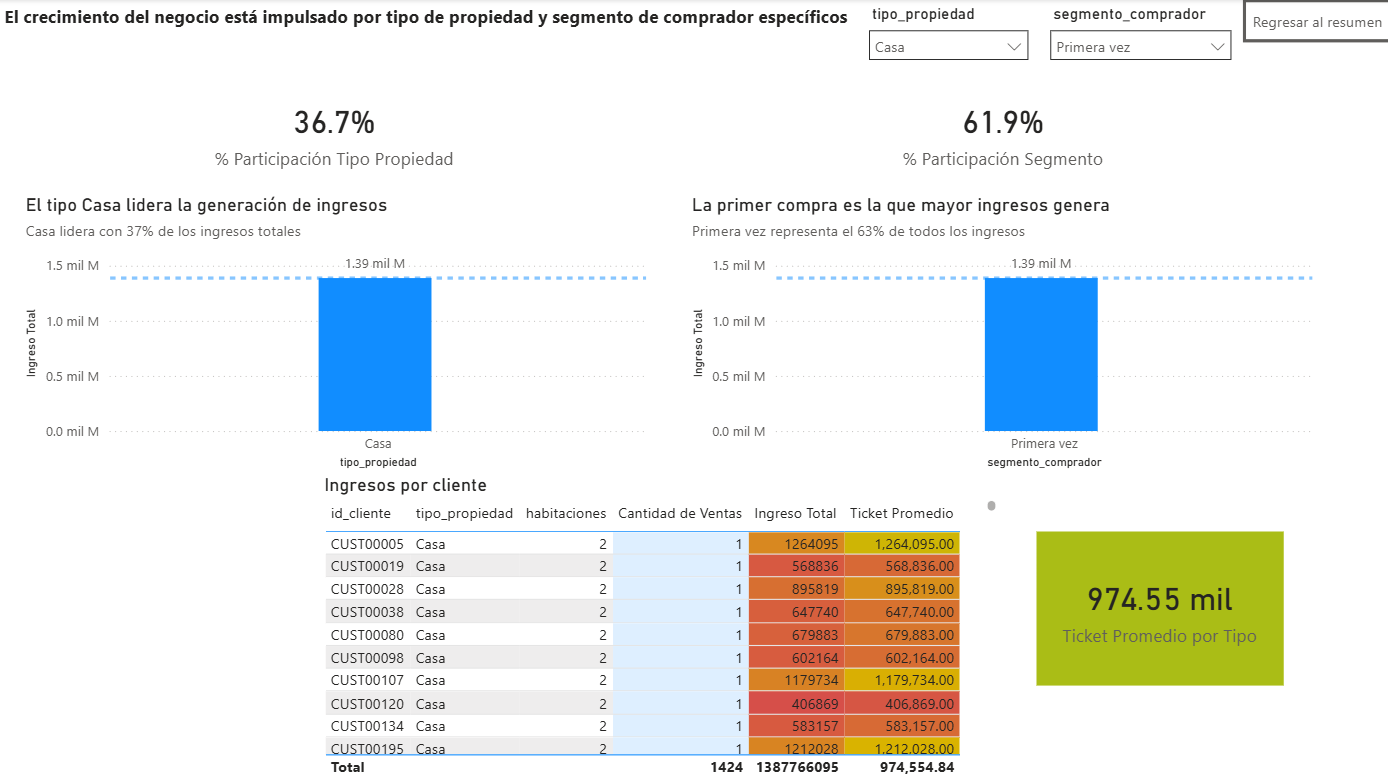

The dashboard page shown, as its layout file describes it:
{"tool":"powerbi","page":{"name":"Análisis Comercial","canvas":[1280,720],"ordinal":1},"visuals":[{"type":"actionButton","box":[1143,0,137.5,39.9],"z":0},{"type":"clusteredColumnChart","title":"El tipo Casa lidera la generación de ingresos","fields":{"Category":["dim_propiedades.tipo_propiedad"],"Y":["hecho_ventas_propiedades.Ingreso Total"]},"box":[19.3,178.8,580.4,257.2],"z":1},{"type":"tableEx","title":"Ingresos por cliente","fields":{"Values":["dim_clientes.id_cliente","dim_propiedades.tipo_propiedad","dim_propiedades.habitaciones","hecho_ventas_propiedades.Cantidad de Ventas","hecho_ventas_propiedades.Ingreso Total","hecho_ventas_propiedades.Ticket Promedio"]},"box":[294.3,436,627.2,283.3],"z":2},{"type":"card","fields":{"Values":["hecho_ventas_propiedades.% Participación Tipo Propiedad"]},"box":[163.7,70.5,290.2,104.5],"z":3},{"type":"card","fields":{"Values":["hecho_ventas_propiedades.% Participación Segmento"]},"box":[777.1,70.5,290.2,104.5],"z":4},{"type":"clusteredColumnChart","title":"La primer compra es la que mayor ingresos genera","fields":{"Category":["dim_clientes.segmento_comprador"],"Y":["hecho_ventas_propiedades.Ingreso Total"]},"box":[631.3,178.8,580.4,257.2],"z":5},{"type":"textbox","box":[0,0,806,31.6],"z":6},{"type":"slicer","fields":{"Values":["dim_propiedades.tipo_propiedad"]},"box":[789.5,0,166.4,63.3],"z":7},{"type":"slicer","fields":{"Values":["dim_clientes.segmento_comprador"]},"box":[955.9,0,187.1,63.3],"z":8},{"type":"card","fields":{"Values":["hecho_ventas_propiedades.Ticket Promedio por Tipo"]},"box":[953.2,489.7,227,141.7],"z":9}]}

Visuals, with their boxes in screenshot pixels (x1, y1, x2, y2), scaled from the page's 1280x720 canvas onto the 1388x780 screenshot:
actionButton: [1239,0,1387,43]
"El tipo Casa lidera la generación de ingresos" clusteredColumnChart: [21,194,650,472]
"Ingresos por cliente" tableEx: [319,472,999,779]
card - hecho_ventas_propiedades.% Participación Tipo Propiedad: [178,76,492,190]
card - hecho_ventas_propiedades.% Participación Segmento: [843,76,1157,190]
"La primer compra es la que mayor ingresos genera" clusteredColumnChart: [685,194,1314,472]
textbox: [0,0,874,34]
slicer - dim_propiedades.tipo_propiedad: [856,0,1037,69]
slicer - dim_clientes.segmento_comprador: [1037,0,1239,69]
card - hecho_ventas_propiedades.Ticket Promedio por Tipo: [1034,531,1280,684]
